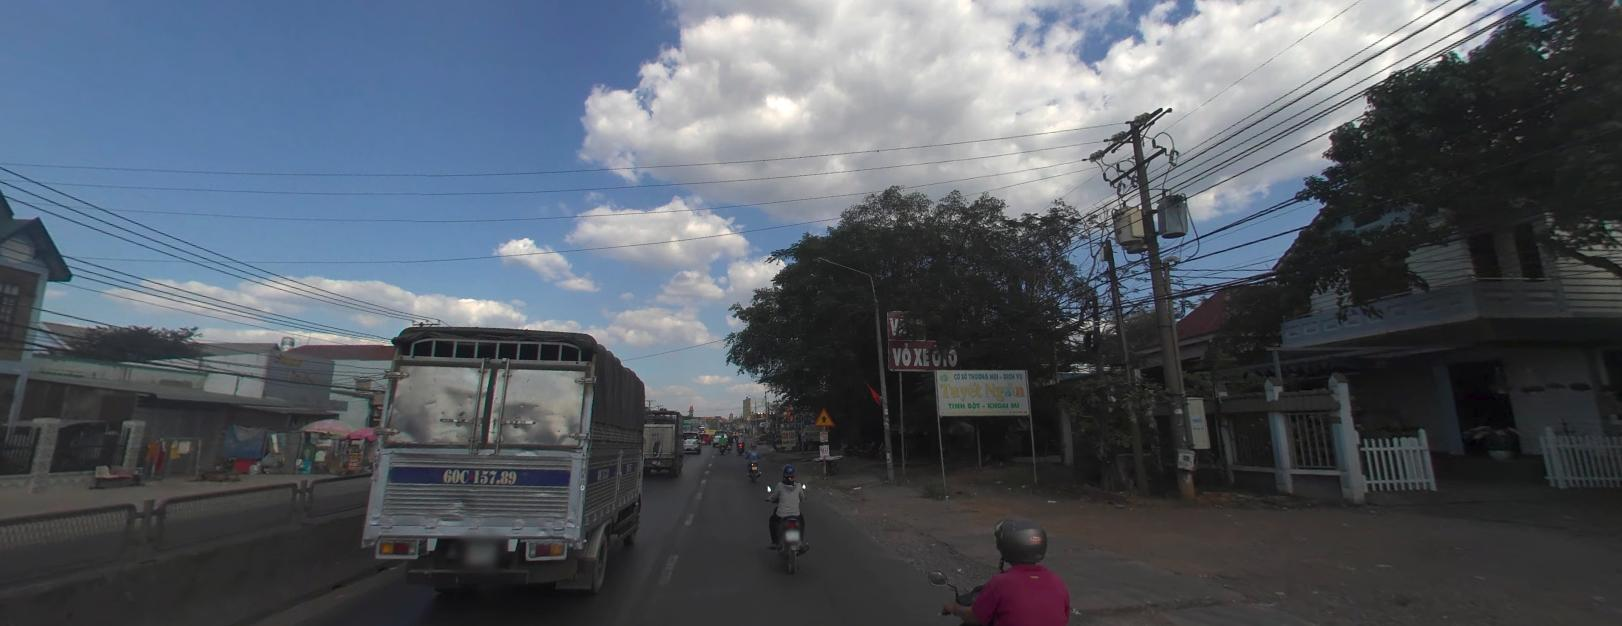Nguy hiem: (814, 405, 836, 425)
